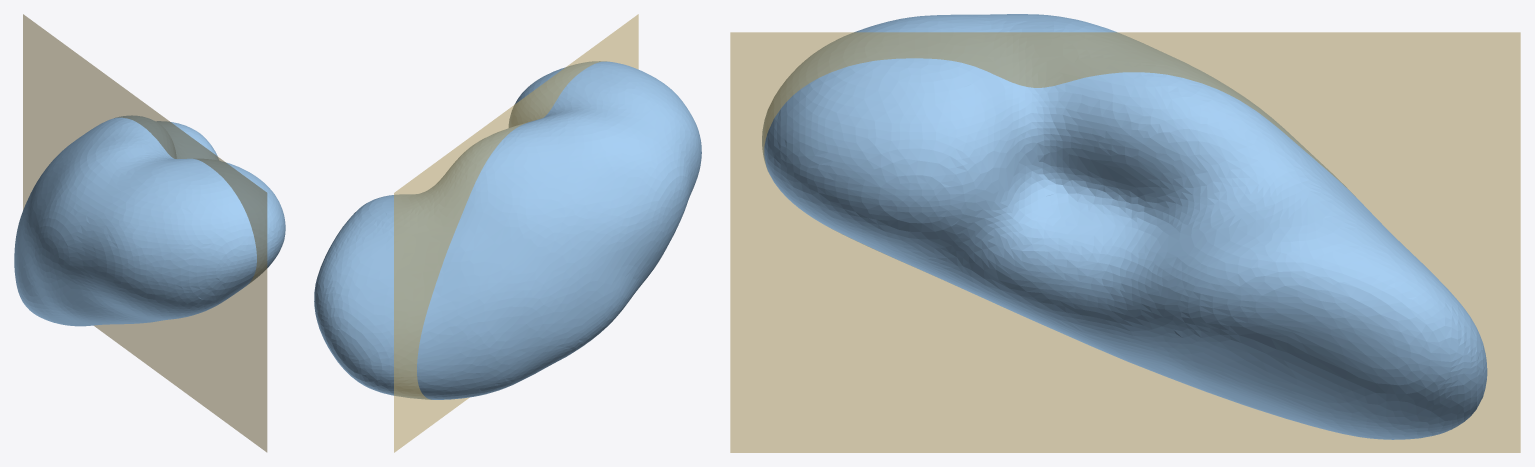
Rendered from prompt.glb.
3 renders of one model, left to right at view 1: azimuth 30°, elevation 25°; view 2: azimuth 150°, elevation 25°; view 3: azimuth 270°, elevation 25°, orthographic. The views are drawn at different scales.
Visible parts, largest first — view 1: world; view 2: world; view 3: world.
Part boxes in pixels (x1,y1,x2,y2): world: (14, 14, 285, 452); world: (314, 14, 701, 452); world: (730, 14, 1520, 452).
Size of the model in its own units: 0.5656 by 0.5781 by 0.9844.
